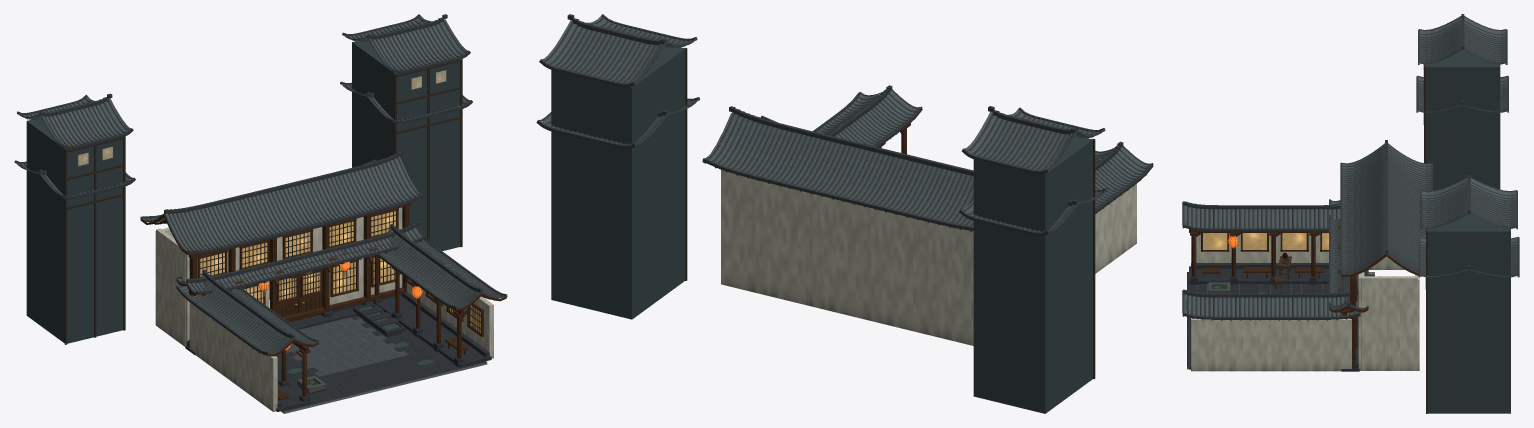
The model's file is courtyard_materials_stage2.glb.
3 views of the same model, side by side, from view 1: azimuth 30°, elevation 25°; view 2: azimuth 150°, elevation 25°; view 3: azimuth 270°, elevation 25° (orthographic). The views are drawn at different scales.
Visible parts, largest first — view 1: EH_DistantTownWalls, EH_TavernMainRoof, EH_SideGalleryWalls, EH_GroundReceiver, EH_EntryDoorsWindows, EH_TavernWalls, EH_WestRoof, EH_EastRoof, EH_TownRoof_2, EH_TavernPorchRoof, EH_TownRoof_1, EH_TavernTimber (+6 smaller); view 2: EH_DistantTownWalls, EH_TavernWalls, EH_TavernMainRoof, EH_TownRoof_2, EH_TownRoof_1, EH_EastRoof, EH_SideGalleryWalls, EH_WestRoof, EH_TownLowerEave_2, EH_TownLowerEave_1; view 3: EH_DistantTownWalls, EH_SideGalleryWalls, EH_TavernMainRoof, EH_TavernWalls, EH_EastRoof, EH_WestRoof, EH_TownRoof_2, EH_TownRoof_1, EH_SideGalleryWindows, EH_TavernPorchRoof, EH_GroundReceiver, EH_SideGalleryTimber (+4 smaller).
Part boxes in pixels (x1,y1,x2,y2): EH_DistantTownWalls: (26,41,462,344); EH_TavernMainRoof: (140,151,423,254); EH_SideGalleryWalls: (189,282,493,411); EH_GroundReceiver: (274,315,486,411); EH_EntryDoorsWindows: (197,208,398,322); EH_TavernWalls: (155,207,402,354); EH_WestRoof: (176,269,319,355); EH_EastRoof: (377,223,507,309); EH_TownRoof_2: (342,14,470,73); EH_TavernPorchRoof: (176,221,426,294); EH_TownRoof_1: (17,93,133,149); EH_TavernTimber: (188,202,410,343); EH_DistantTownWalls: (551,47,1095,413); EH_TavernWalls: (721,169,973,345); EH_TavernMainRoof: (702,106,973,230); EH_TownRoof_2: (539,14,697,87); EH_TownRoof_1: (961,106,1105,174); EH_EastRoof: (813,85,922,147); EH_SideGalleryWalls: (1095,183,1136,273); EH_WestRoof: (1095,141,1153,213); EH_TownLowerEave_2: (536,97,700,148); EH_TownLowerEave_1: (959,188,1107,236); EH_DistantTownWalls: (1423,49,1510,413); EH_SideGalleryWalls: (1189,233,1351,371); EH_TavernMainRoof: (1340,140,1432,275); EH_TavernWalls: (1341,256,1419,371); EH_EastRoof: (1182,289,1360,319); EH_WestRoof: (1182,201,1340,231); EH_TownRoof_2: (1420,175,1517,229); EH_TownRoof_1: (1418,14,1507,64); EH_SideGalleryWindows: (1201,233,1328,251); EH_TavernPorchRoof: (1329,199,1368,309); EH_GroundReceiver: (1187,272,1374,367); EH_SideGalleryTimber: (1189,229,1328,277).
Size of the model in its own units: 22.05 by 11.3 by 16.13.
29 materials, 15 textured.
